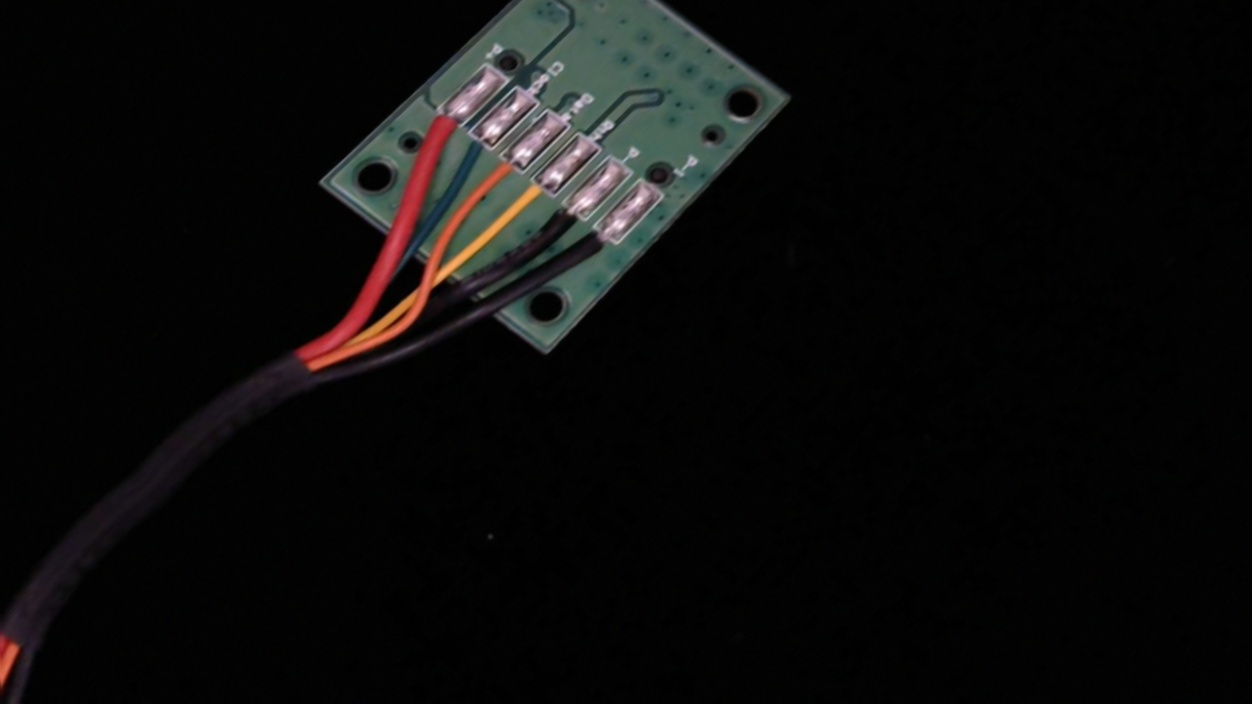Black: (521, 190, 598, 257)
Black1: (551, 213, 635, 286)
Green: (433, 120, 508, 182)
Orange: (458, 143, 539, 211)
Red: (389, 97, 477, 170)
Yellow: (487, 166, 569, 236)
